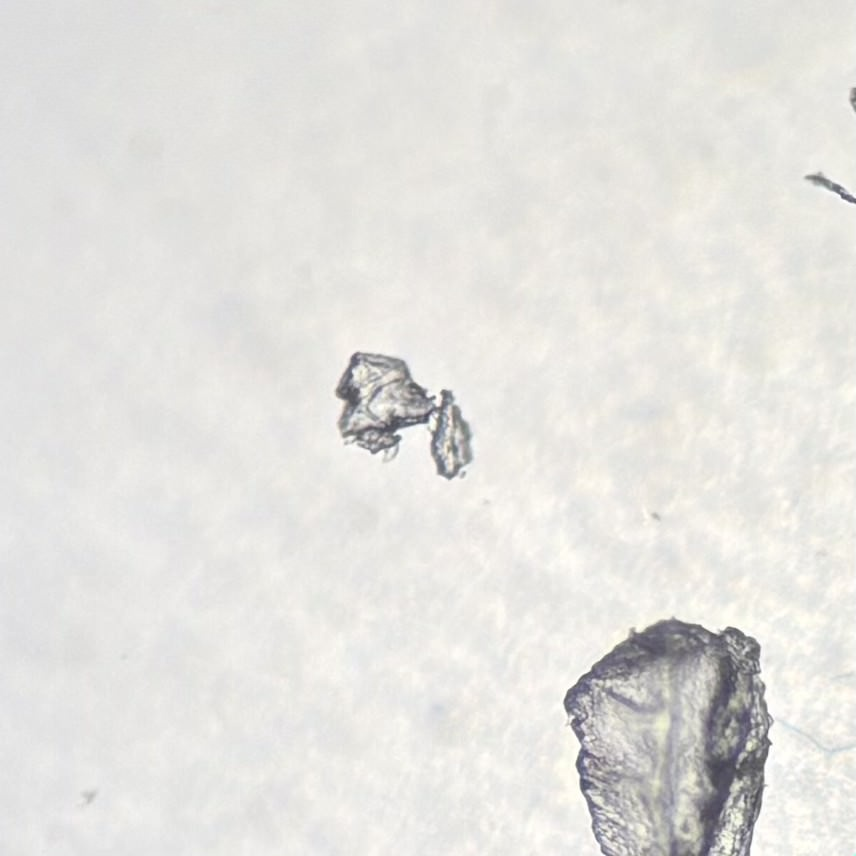microplastic: (558, 613, 775, 855), (325, 346, 481, 484)
